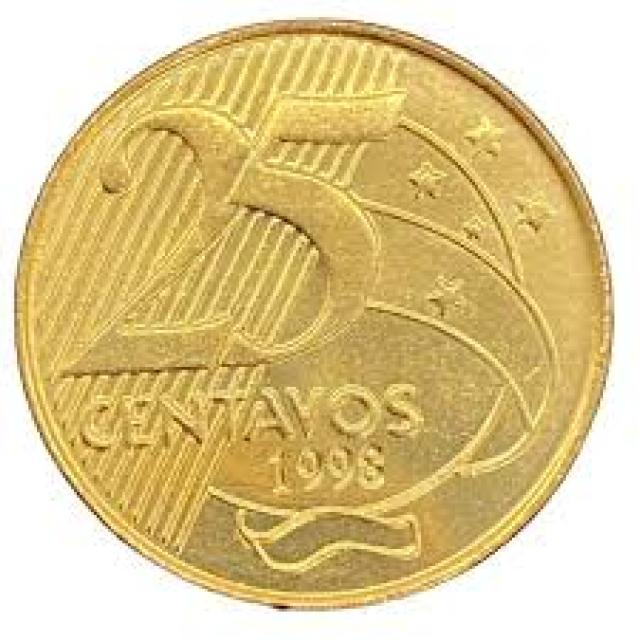25 cent: (19, 30, 608, 609)
